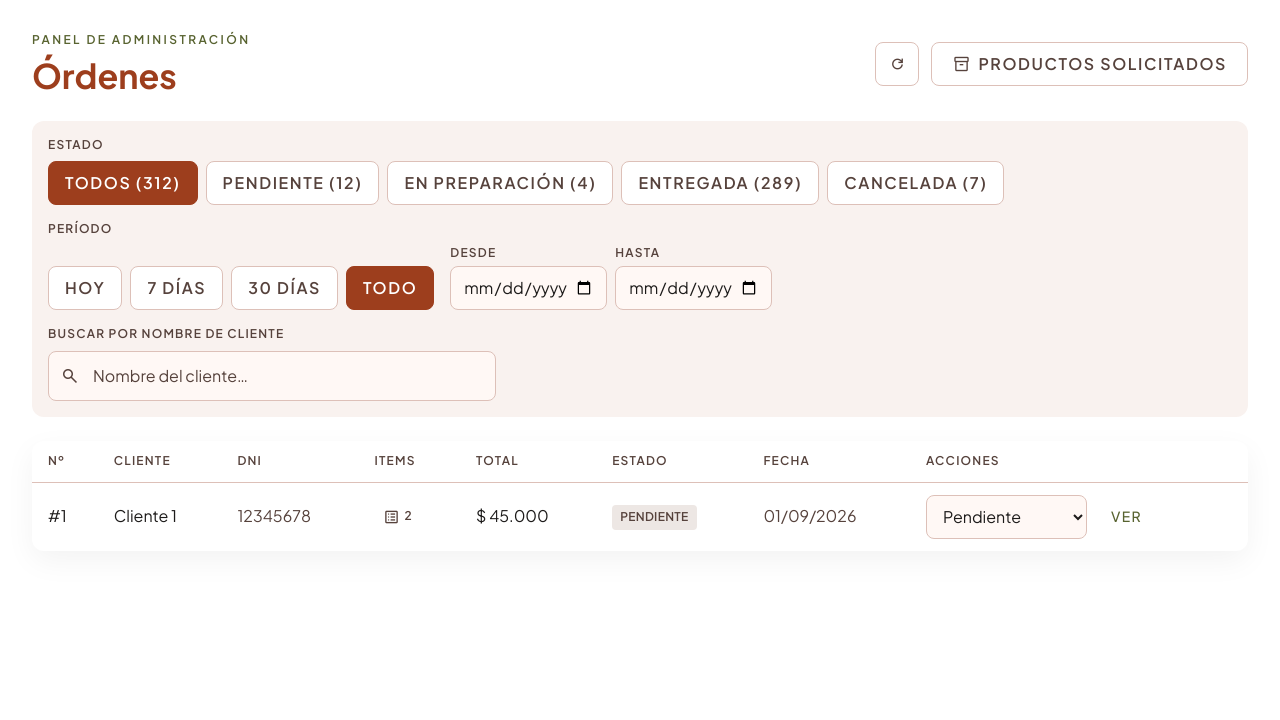
Test: AdminOrdenes — el resumen de productos › el botón de Items es un disclosure que abre y cierra una fila extra
The width and height of the screenshot is (1280, 720).
Expected: the heading "Órdenes" is shown, [32, 54, 177, 97]
Click the button named "productos de la orden #1": [398, 516] box [374, 494, 421, 538]
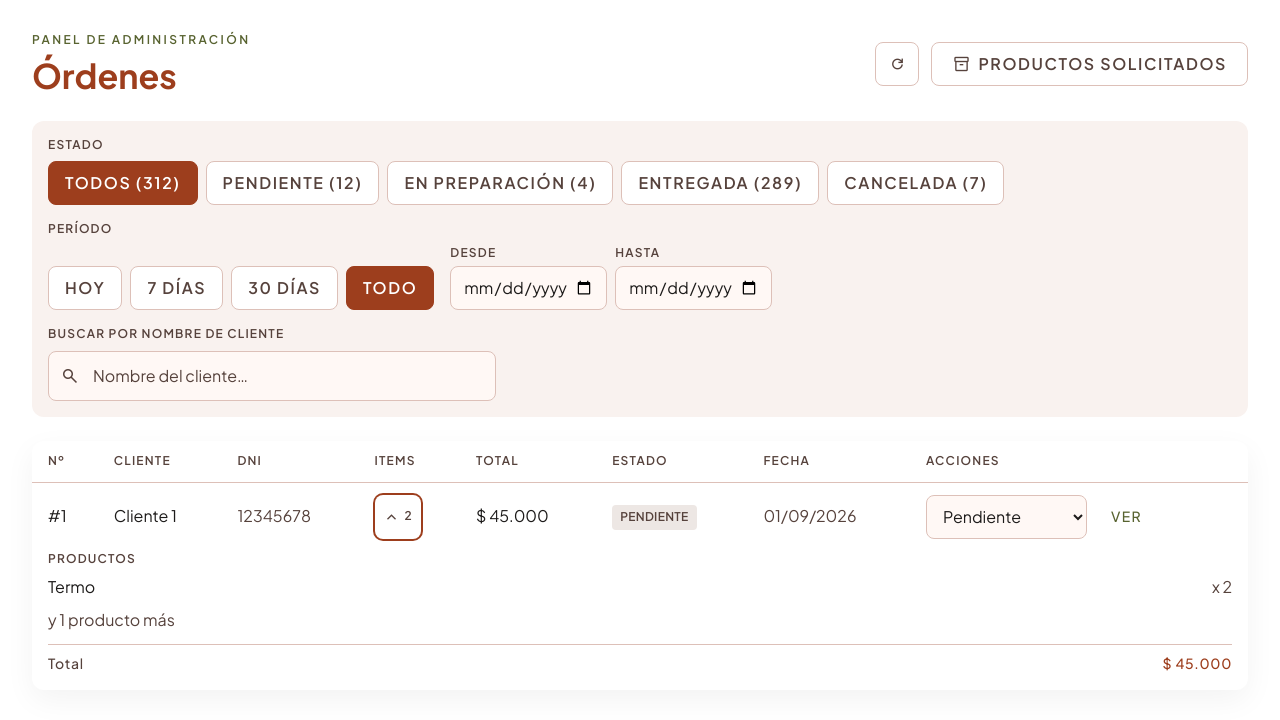
Expected: the button named "productos de la orden #1" is expanded
Expected: the text "Termo" is shown, [48, 575, 95, 600]
Click the button named "productos de la orden #1": [398, 516] box [374, 494, 421, 538]
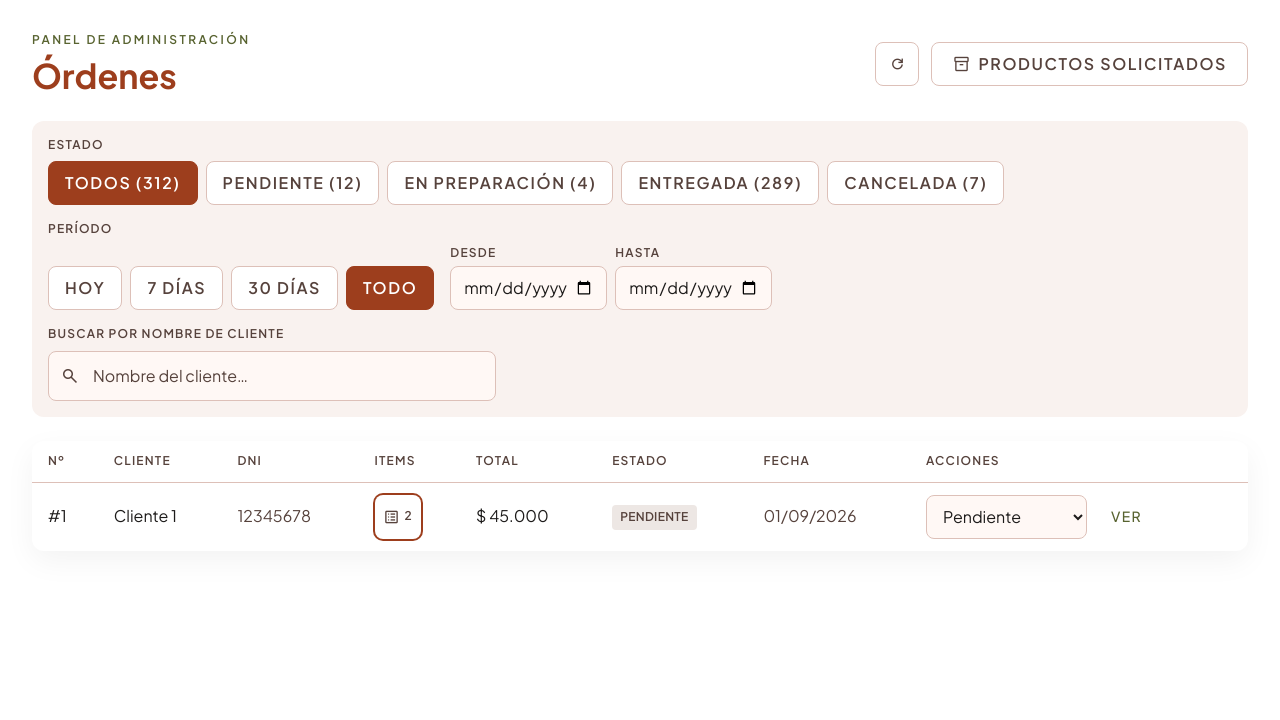
Expected: the button named "productos de la orden #1" is collapsed, [374, 494, 421, 538]
Expected: the text "Termo" is gone
